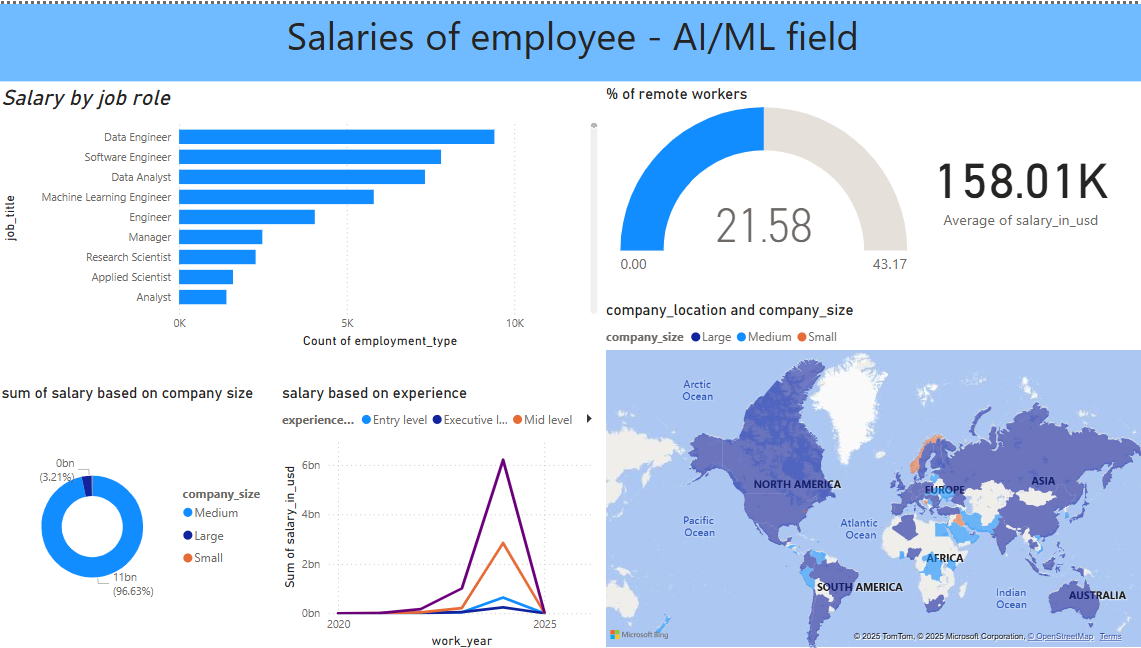

The dashboard page shown, as its layout file describes it:
{"tool":"powerbi","page":{"name":"Page 1","canvas":[1280,720],"ordinal":0},"visuals":[{"type":"textbox","box":[0,0,1280,86],"z":0},{"type":"clusteredBarChart","title":"Salary by job role","fields":{"Category":["salaries (2).job_title"],"Y":["CountNonNull(salaries (2).employment_type)"]},"box":[0,90,672,296],"z":1000},{"type":"lineChart","title":"salary based on experience","fields":{"Series":["salaries (2).experience_level"],"Y":["Sum(salaries (2).salary_in_usd)"],"Category":["salaries (2).work_year"]},"box":[312,422,360,298],"z":2000},{"type":"donutChart","title":"sum of salary based on company size","fields":{"Category":["salaries (2).company_size"],"Y":["Sum(salaries (2).salary_in_usd)"]},"box":[0,422,312,298],"z":3000},{"type":"filledMap","fields":{"Series":["salaries (2).company_size"],"Category":["salaries (2).company_location"]},"box":[672,330,608,390],"z":4001},{"type":"card","fields":{"Values":["Avg(salaries (2).salary_in_usd)"]},"box":[1014,90,248,220],"z":4002},{"type":"gauge","title":"% of remote workers","fields":{"Y":["Avg(salaries (2).remote_ratio)"]},"box":[672,90,360,220],"z":4003}]}

Visuals, with their boxes in screenshot pixels (x1, y1, x2, y2), scaled from the page's 1280x720 canvas onto the 1141x648 screenshot:
textbox: [x1=0, y1=0, x2=1140, y2=77]
"Salary by job role" clusteredBarChart: [x1=0, y1=81, x2=599, y2=347]
"salary based on experience" lineChart: [x1=278, y1=380, x2=599, y2=647]
"sum of salary based on company size" donutChart: [x1=0, y1=380, x2=278, y2=647]
filledMap - salaries (2).company_size x salaries (2).company_location: [x1=599, y1=297, x2=1140, y2=647]
card - Avg(salaries (2).salary_in_usd): [x1=904, y1=81, x2=1125, y2=279]
"% of remote workers" gauge: [x1=599, y1=81, x2=920, y2=279]
